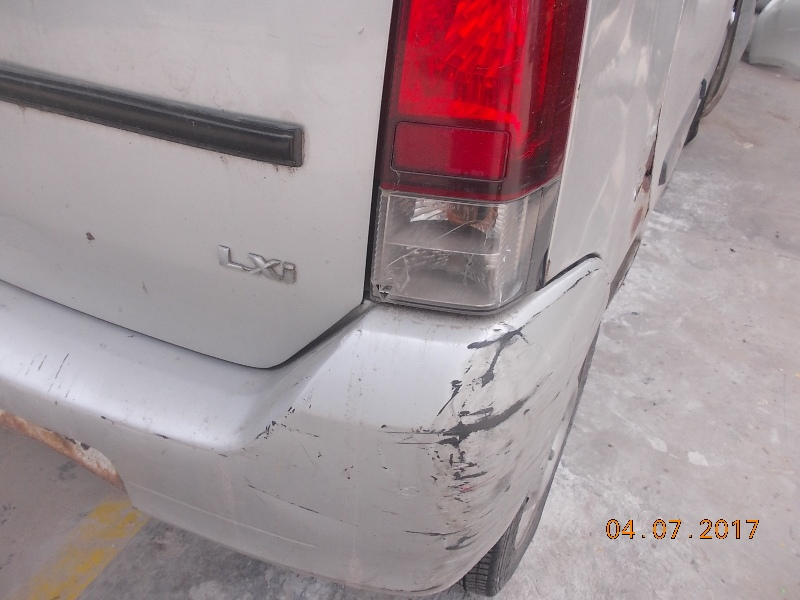Scratch_or_spot: (424, 348, 520, 557)
